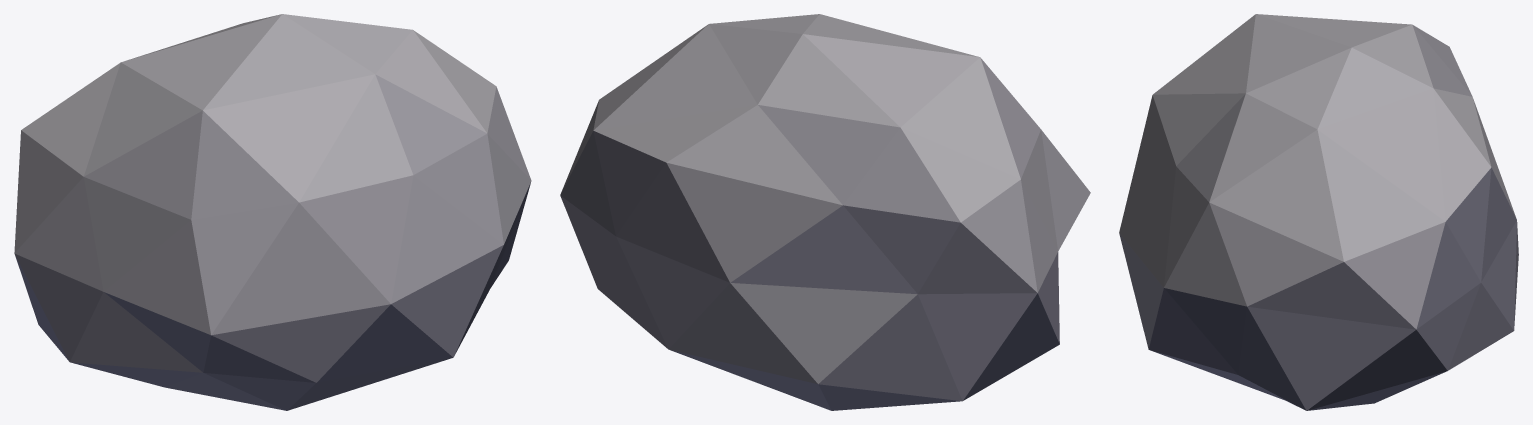
Rendered from stone_basic_a.fbx.
3 views of the same model, side by side, from view 1: azimuth 30°, elevation 25°; view 2: azimuth 150°, elevation 25°; view 3: azimuth 270°, elevation 25° (orthographic). The views are drawn at different scales.
Visible parts, largest first — view 1: stone_basic_a; view 2: stone_basic_a; view 3: stone_basic_a.
Boxes of the visible parts, box(x1,y1,x2,y2) form: stone_basic_a: box(14, 14, 531, 410); stone_basic_a: box(560, 14, 1090, 410); stone_basic_a: box(1119, 14, 1518, 410).
Bounding box in the file's own units: 0.4086 × 0.2836 × 0.3167.
